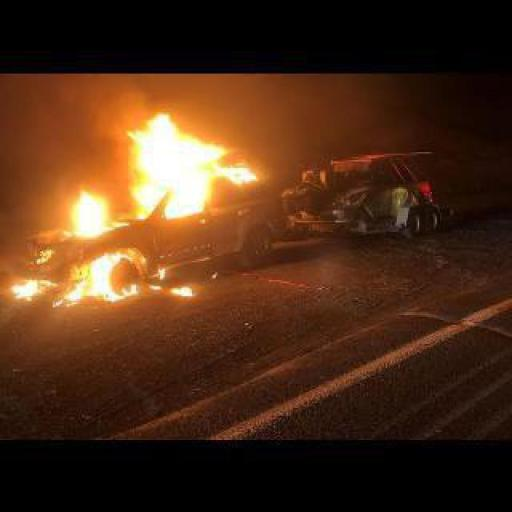smoke: (136, 110, 272, 220), (54, 254, 146, 308), (64, 194, 126, 236), (13, 275, 40, 301), (170, 285, 194, 296), (155, 262, 168, 278)
